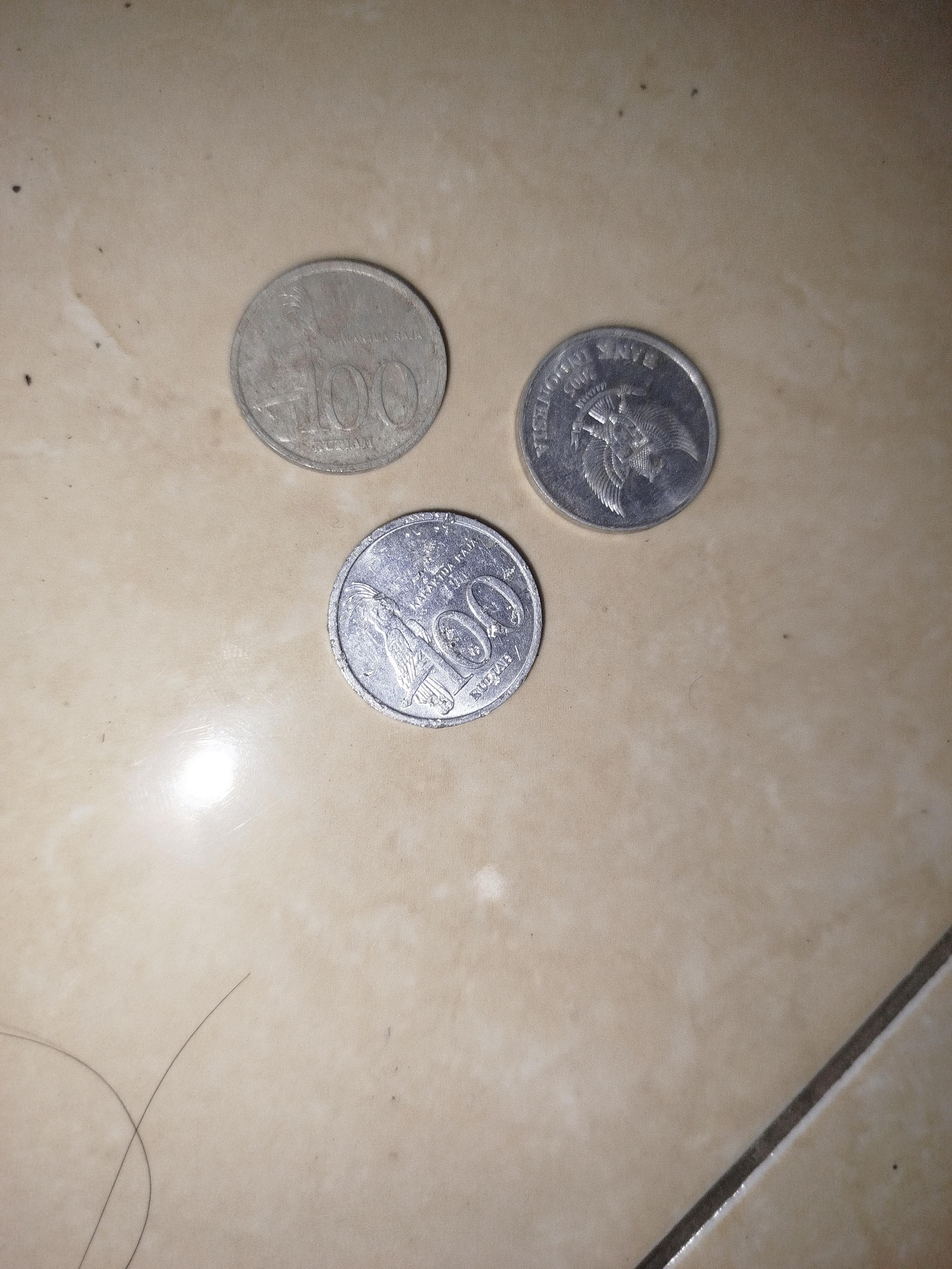coin_100_e1999: (314, 492, 565, 737), (501, 302, 737, 541), (219, 245, 453, 475)
